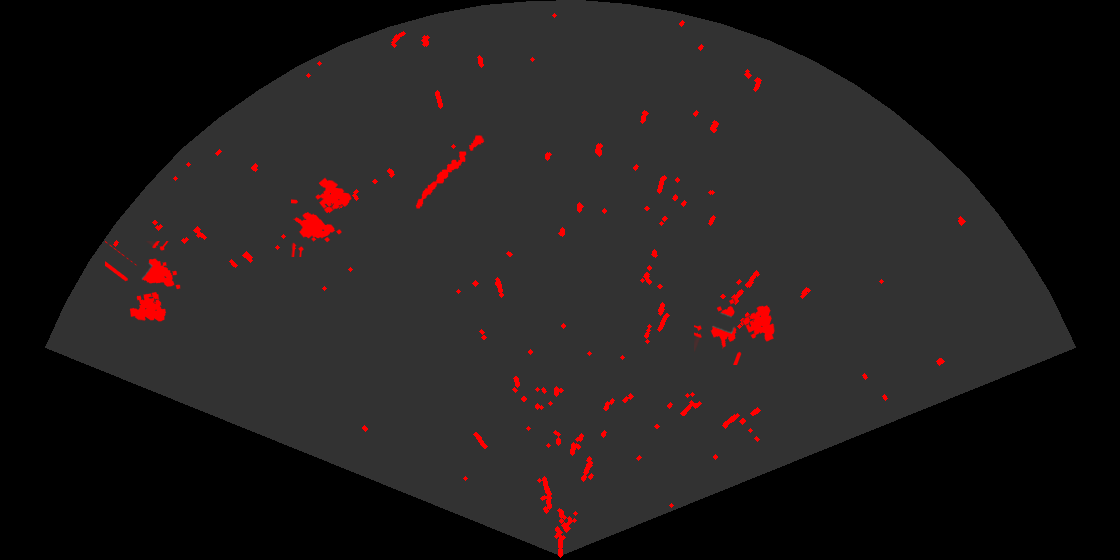cage: (105, 241, 182, 323), (694, 297, 776, 365), (291, 176, 353, 257)
chain: (414, 134, 486, 210)
